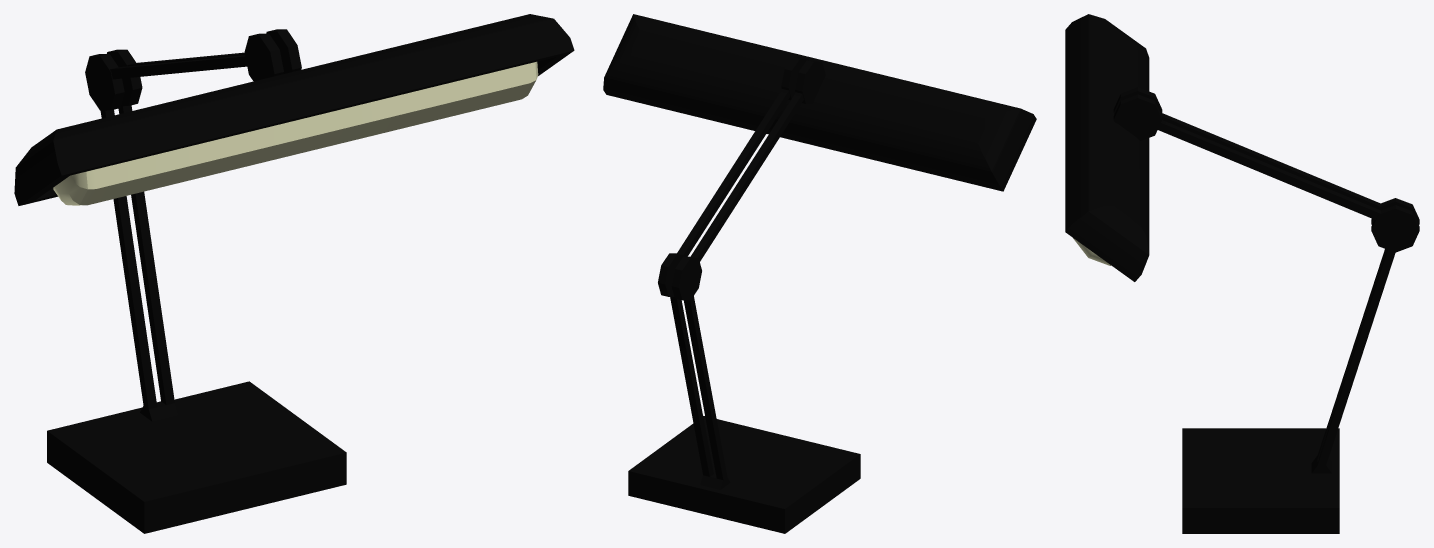
File: desk_lamp.fbx
3 renders of one model, left to right at view 1: azimuth 30°, elevation 25°; view 2: azimuth 150°, elevation 25°; view 3: azimuth 270°, elevation 25°, orthographic. The views are drawn at different scales.
Parts seen in each view (by area): view 1: pCube1, pCube2, pCylinder3, pCylinder2, pCylinder5, pCylinder4, pCylinder1; view 2: pCube2, pCube1, pCylinder2, pCylinder5, pCylinder1, pCylinder4; view 3: pCube1, pCube2, pCylinder1, pCylinder4.
Part boxes in pixels (x1,y1,x2,y2): pCube1: (47,52,346,533); pCube2: (14,14,574,205); pCylinder3: (53,61,538,205); pCylinder2: (85,54,124,110); pCylinder5: (244,33,283,81); pCylinder4: (266,29,301,73); pCylinder1: (107,49,142,106); pCube2: (603,14,1036,191); pCube1: (628,89,860,533); pCylinder2: (671,256,701,300); pCylinder5: (795,60,825,103); pCylinder1: (658,253,685,296); pCylinder4: (781,57,808,100); pCube1: (1158,113,1395,533); pCube2: (1065,14,1149,281); pCylinder1: (1371,205,1419,252); pCylinder4: (1113,94,1162,140).
Bounding box in the file's own units: 5.37 × 4.97 × 3.98.
